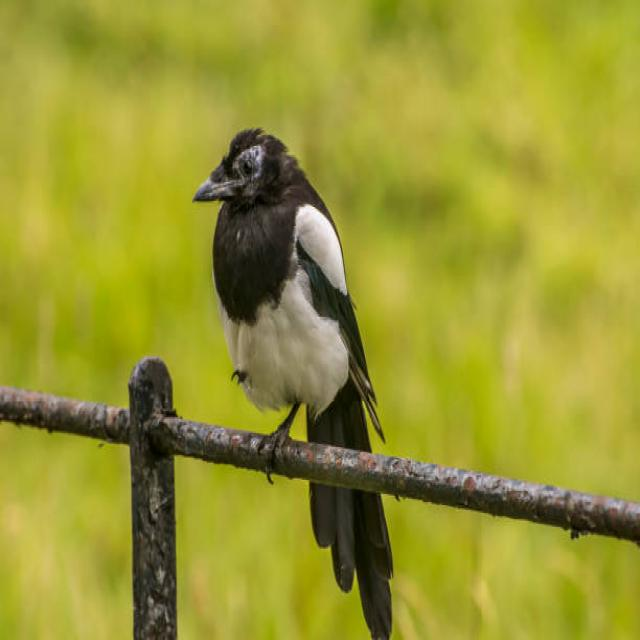Magpie: (190, 121, 398, 640)
